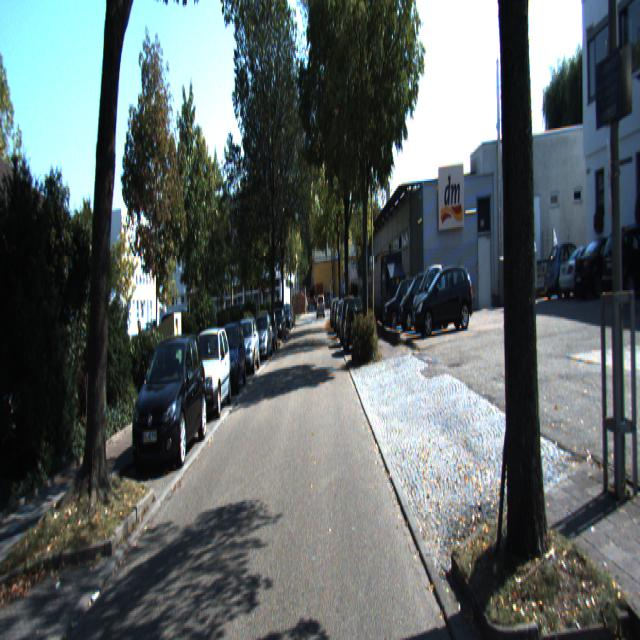Car: (129, 328, 208, 478), (573, 228, 639, 303), (412, 261, 474, 340), (184, 323, 233, 422), (555, 238, 629, 301), (539, 238, 607, 298), (396, 266, 442, 335), (600, 221, 640, 296), (213, 320, 246, 397), (231, 316, 260, 377), (344, 296, 366, 354), (251, 312, 273, 362)
